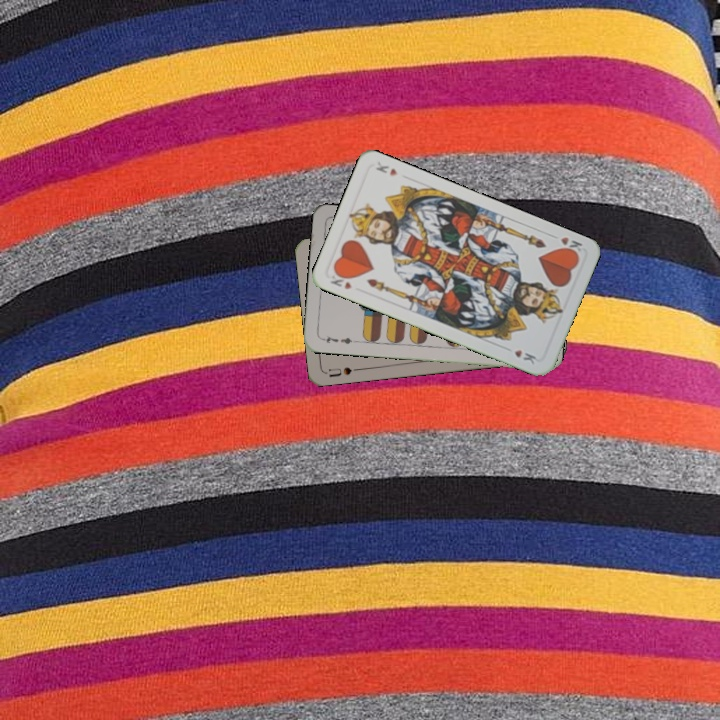E7: (318, 331, 358, 347)
HK: (547, 230, 585, 258), (326, 268, 355, 292)
SU: (323, 363, 363, 380)
